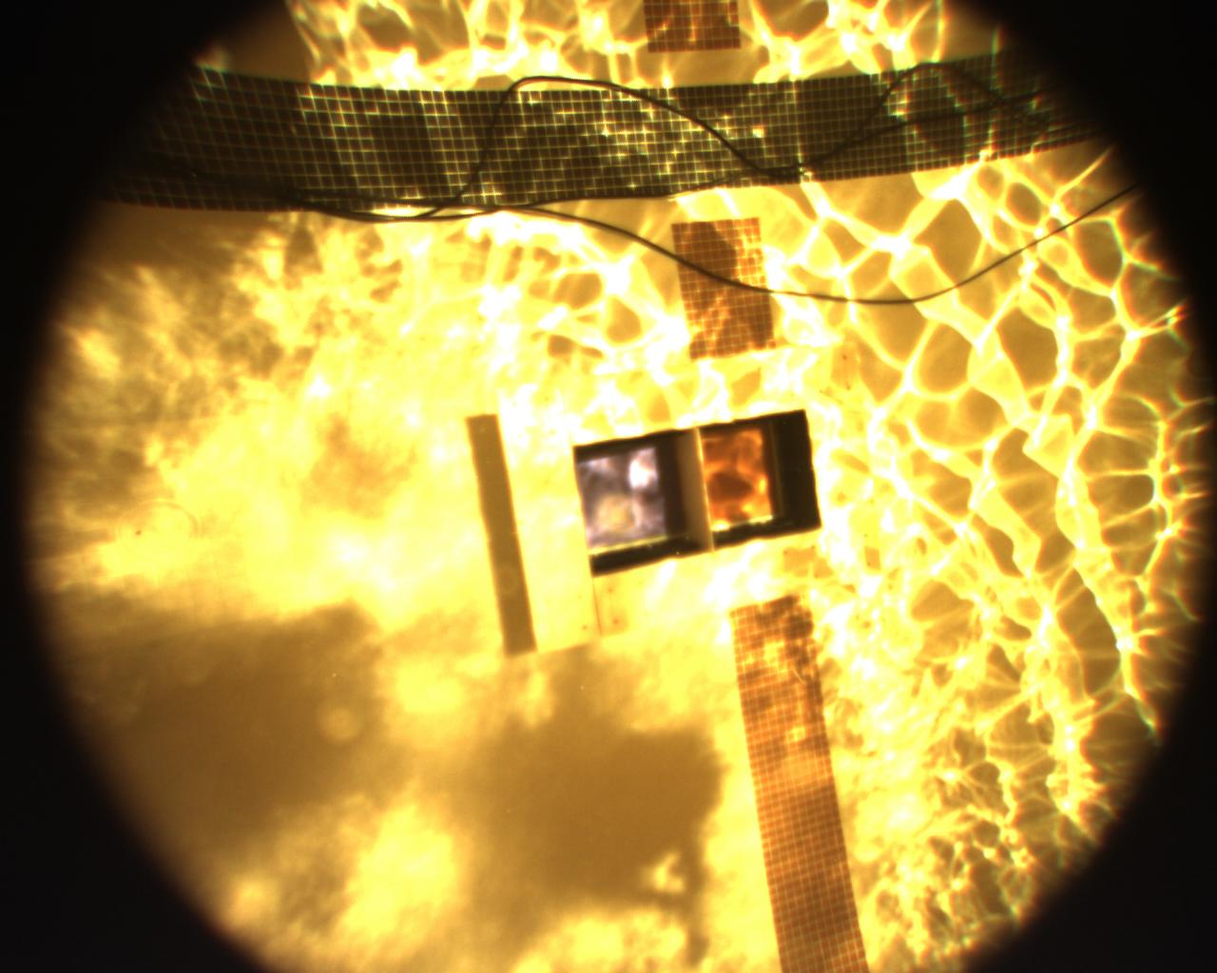dropper-box-top: (485, 346, 852, 640)
